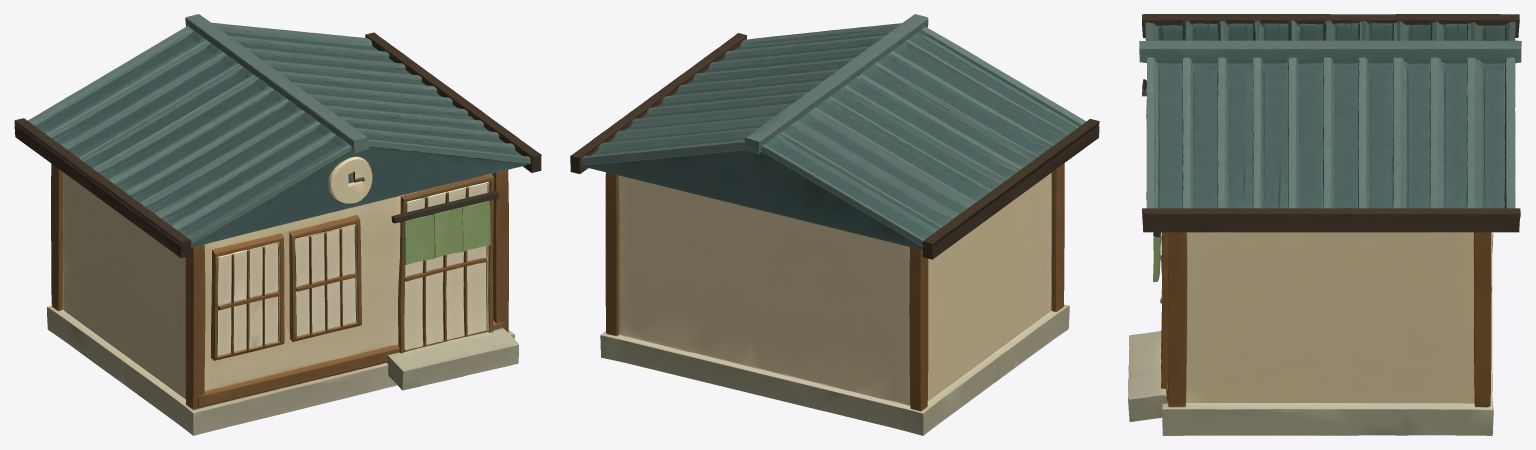
Rendered from source.glb.
3 renders of one model, left to right at view 1: azimuth 30°, elevation 25°; view 2: azimuth 150°, elevation 25°; view 3: azimuth 270°, elevation 25°, orthographic. The views are drawn at different scales.
Visible parts, largest first — view 1: model; view 2: model; view 3: model.
Part boxes in pixels (box(x1,y1,x2,y2)): model: box(14, 14, 541, 435); model: box(570, 14, 1099, 435); model: box(1128, 14, 1521, 435).
Bounding box in the file's own units: 1.89 × 1.33 × 1.58.
1 material, 1 textured.
